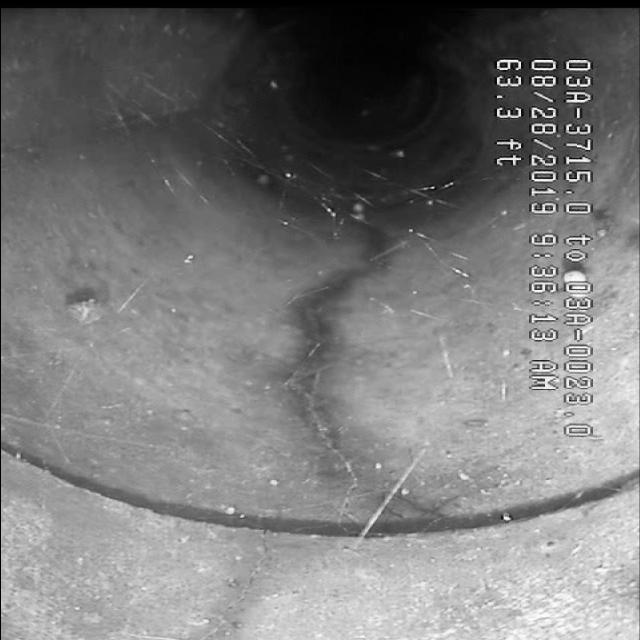Crack: (269, 219, 427, 507)
